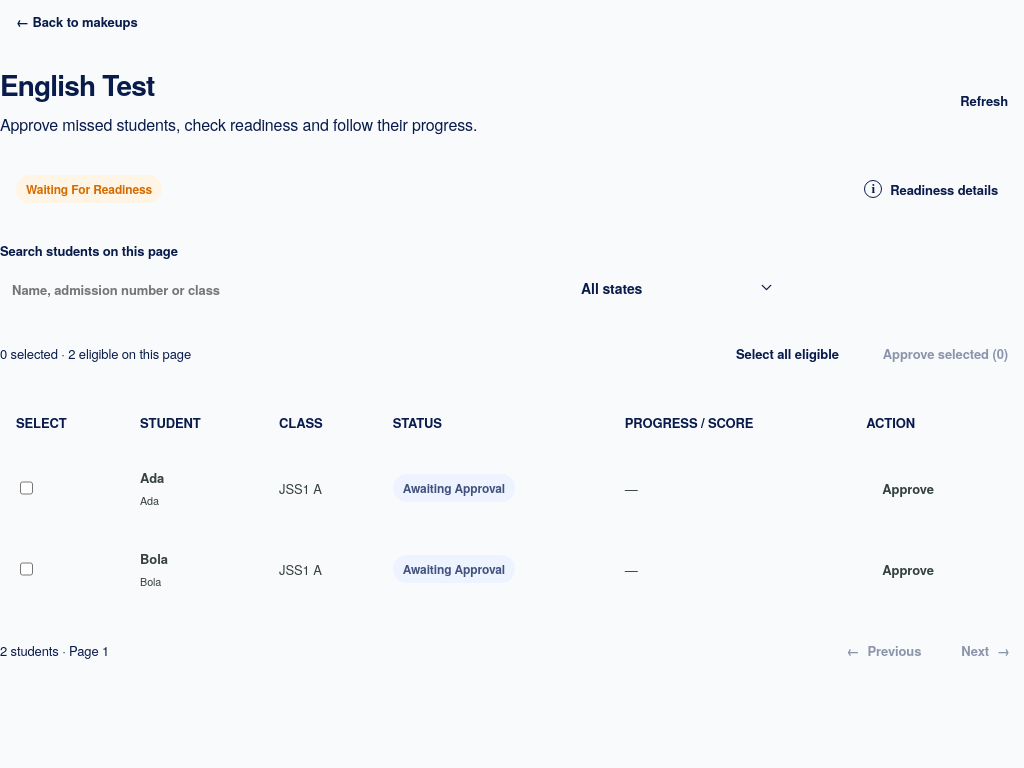
Test: shows blockers and approves selected missed students with a reason, then clears selection
This screenshot has width=1024, height=768.
Click the button "Select all eligible" at (787, 354), box [720, 333, 855, 375]
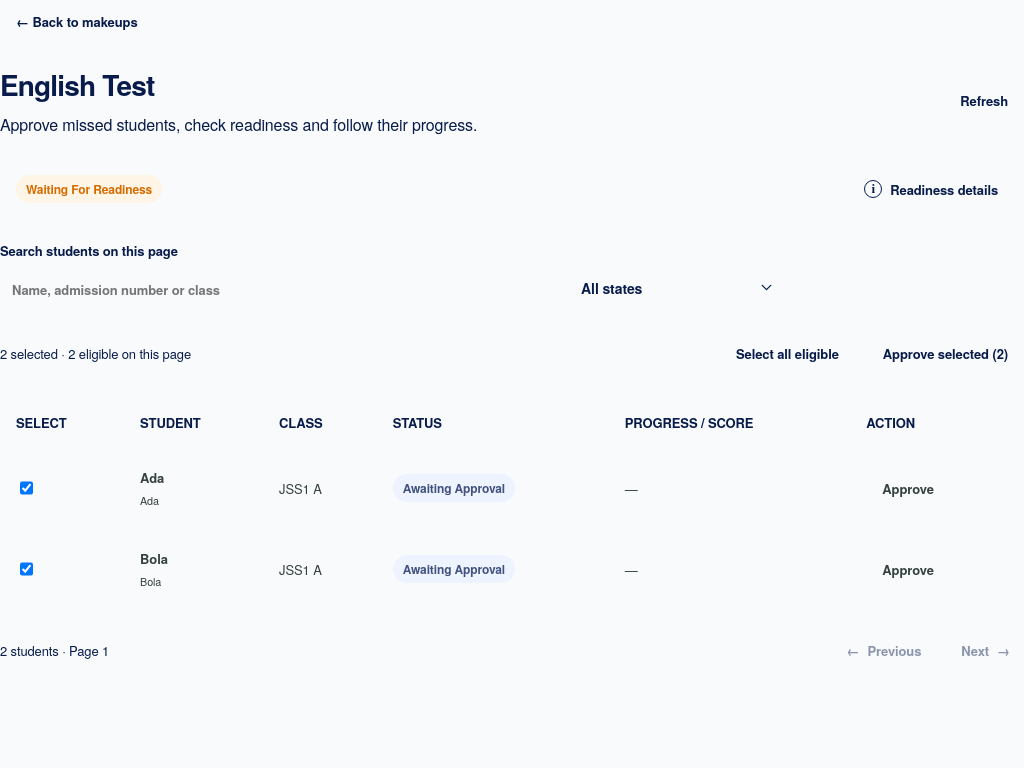
Click the button "Approve selected (2)" at (945, 354), box [867, 333, 1023, 375]
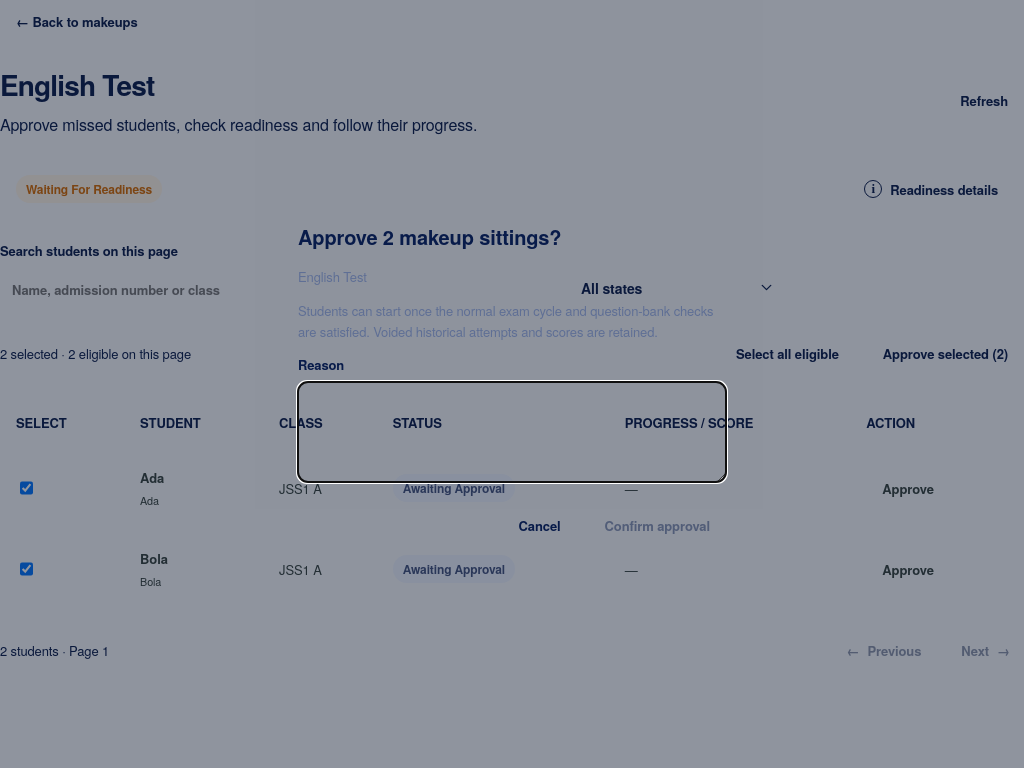
Type "Approved absence" into the text box labelled "Reason" at (512, 432), box [298, 382, 726, 482]
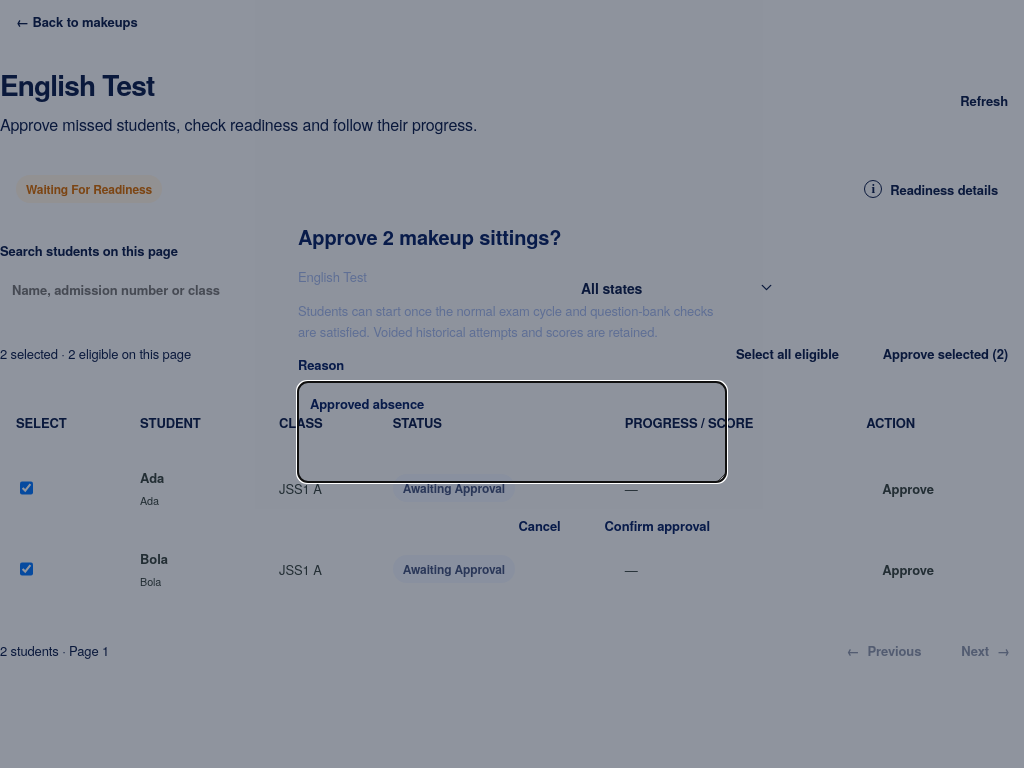
Click the button "Confirm approval" at (657, 526), box [588, 504, 726, 546]
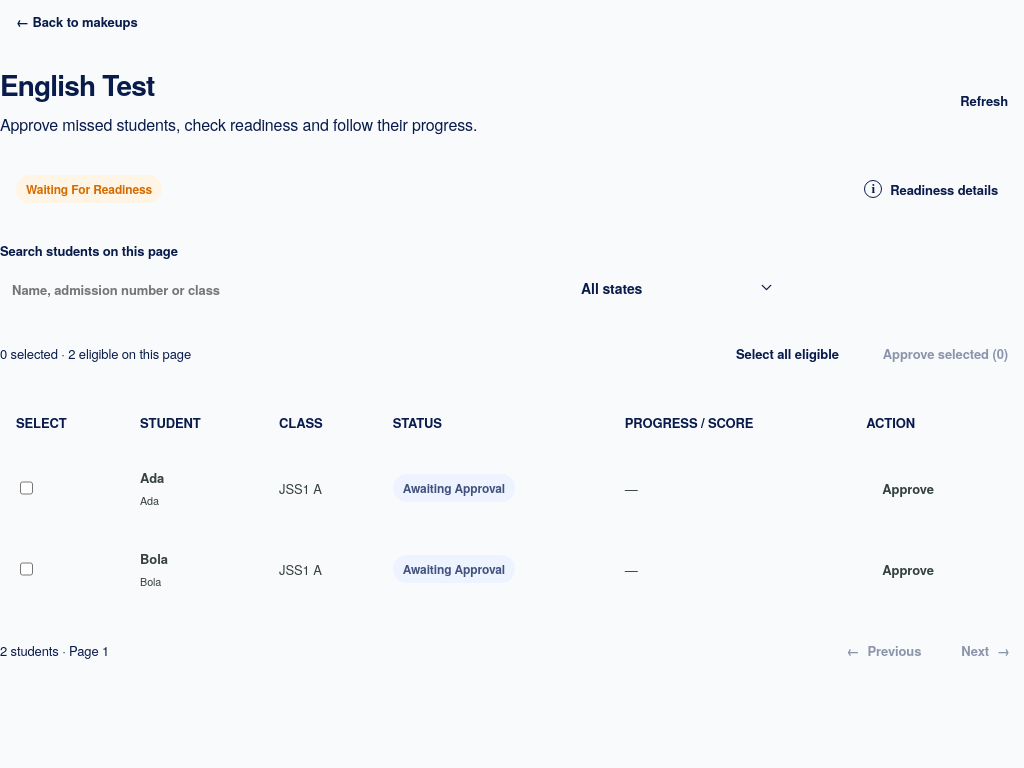
Result: the button "Approve selected (0)" is disabled at [867, 333, 1023, 375]
